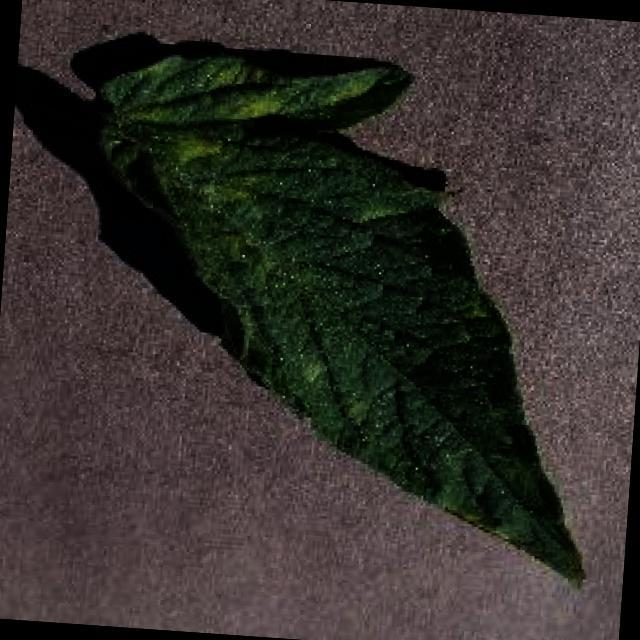Tomato mold leaf: (65, 42, 623, 591)
